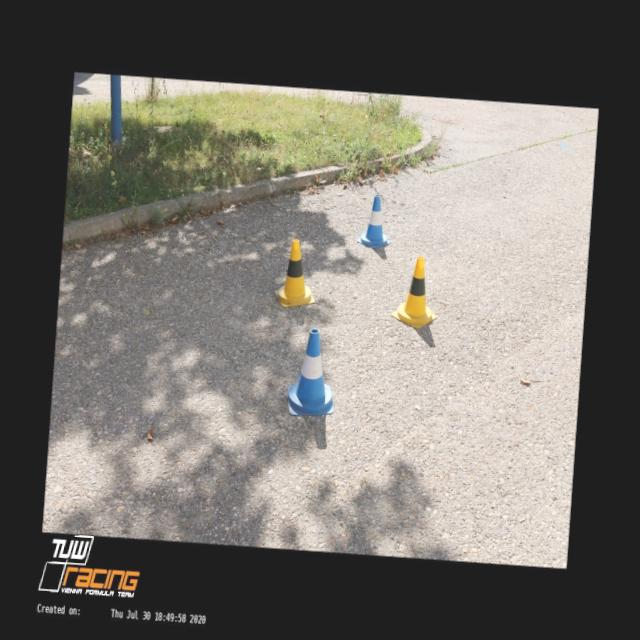blue_cone: (286, 327, 338, 418), (356, 194, 394, 249)
yellow_cone: (390, 254, 440, 329), (273, 237, 318, 308)
